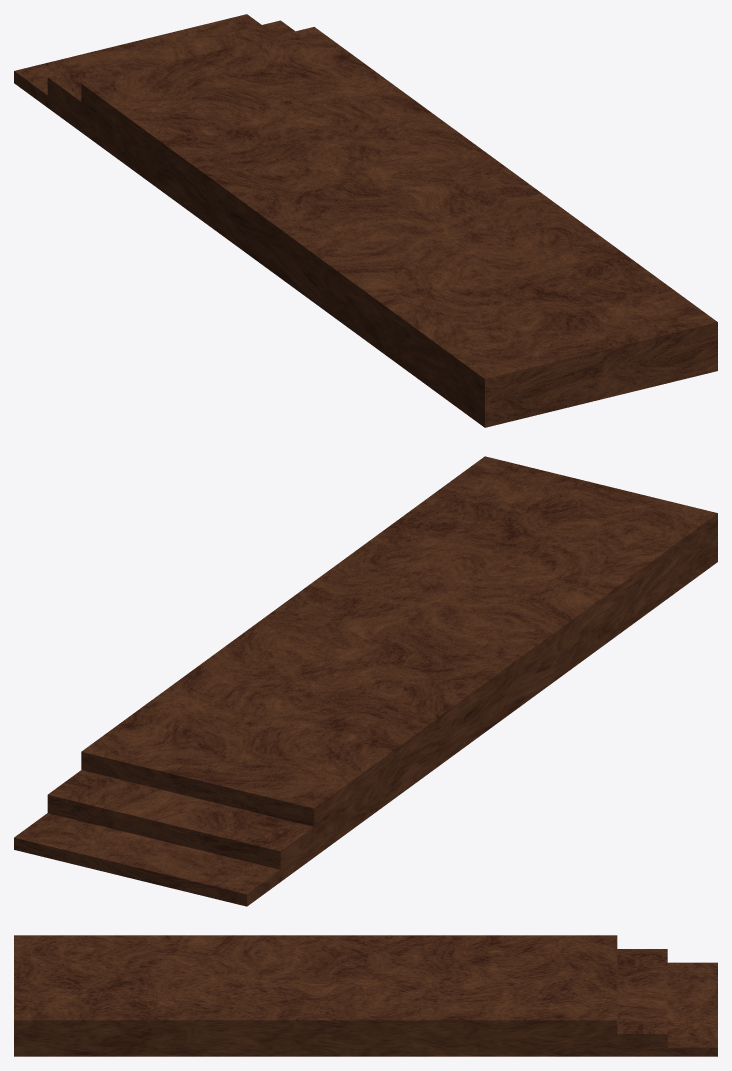
File: Stage.glb
The picture shows the model from 3 angles, top to bottom: view 1: azimuth 30°, elevation 25°; view 2: azimuth 150°, elevation 25°; view 3: azimuth 270°, elevation 25°; orthographic projection. The views are drawn at different scales.
Visible parts, largest first — view 1: Main Stage; view 2: Main Stage; view 3: Main Stage.
Part boxes in pixels (<box>): Main Stage: <box>14,14,717,427</box>; Main Stage: <box>14,456,717,906</box>; Main Stage: <box>14,935,717,1056</box>.
Size of the model in its own units: 4 by 0.8 by 14.
Materials: 1 (1 with a texture image).
